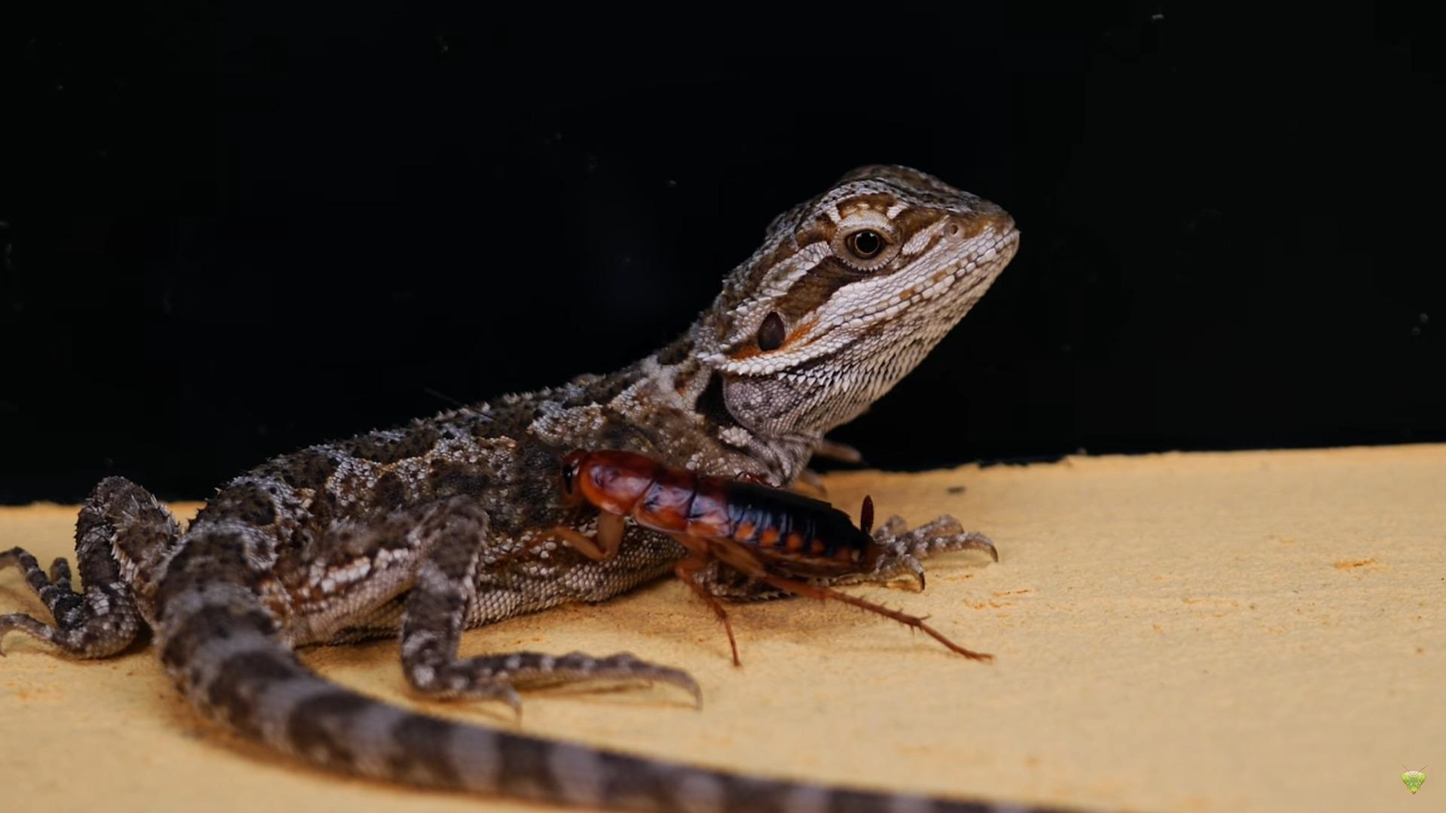cockroach: (546, 415, 887, 644)
lizard: (44, 159, 1025, 813)
